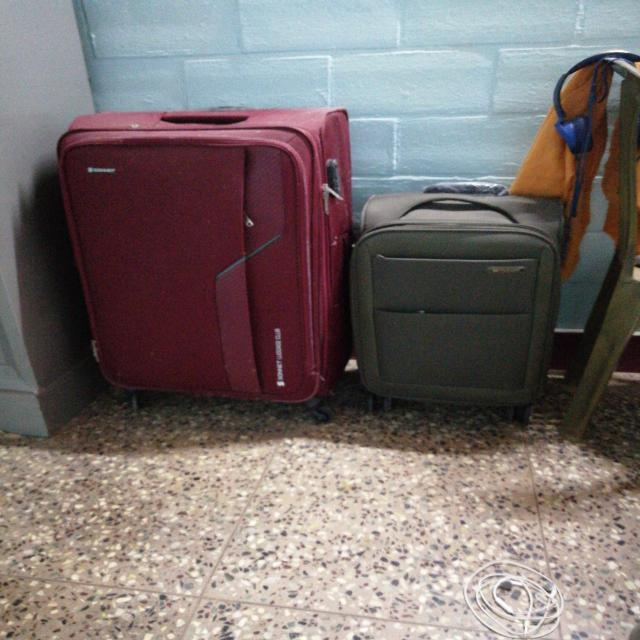suitcaserotation: (48, 100, 357, 423), (341, 178, 571, 426)
